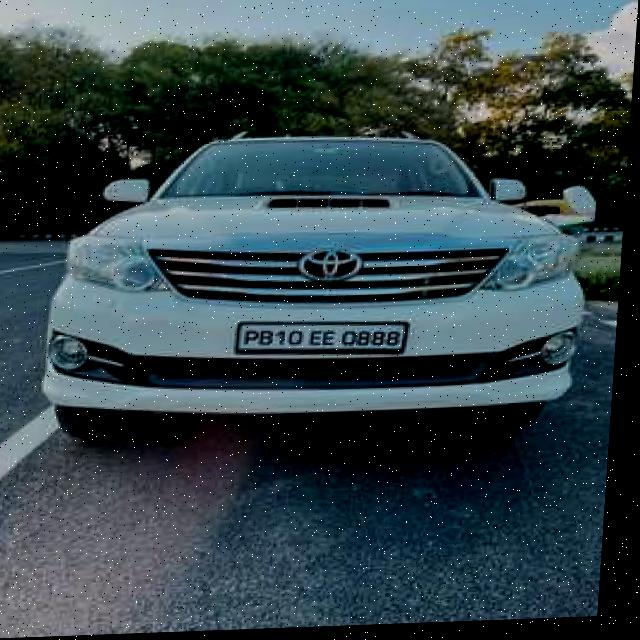plate: (237, 316, 418, 366)
